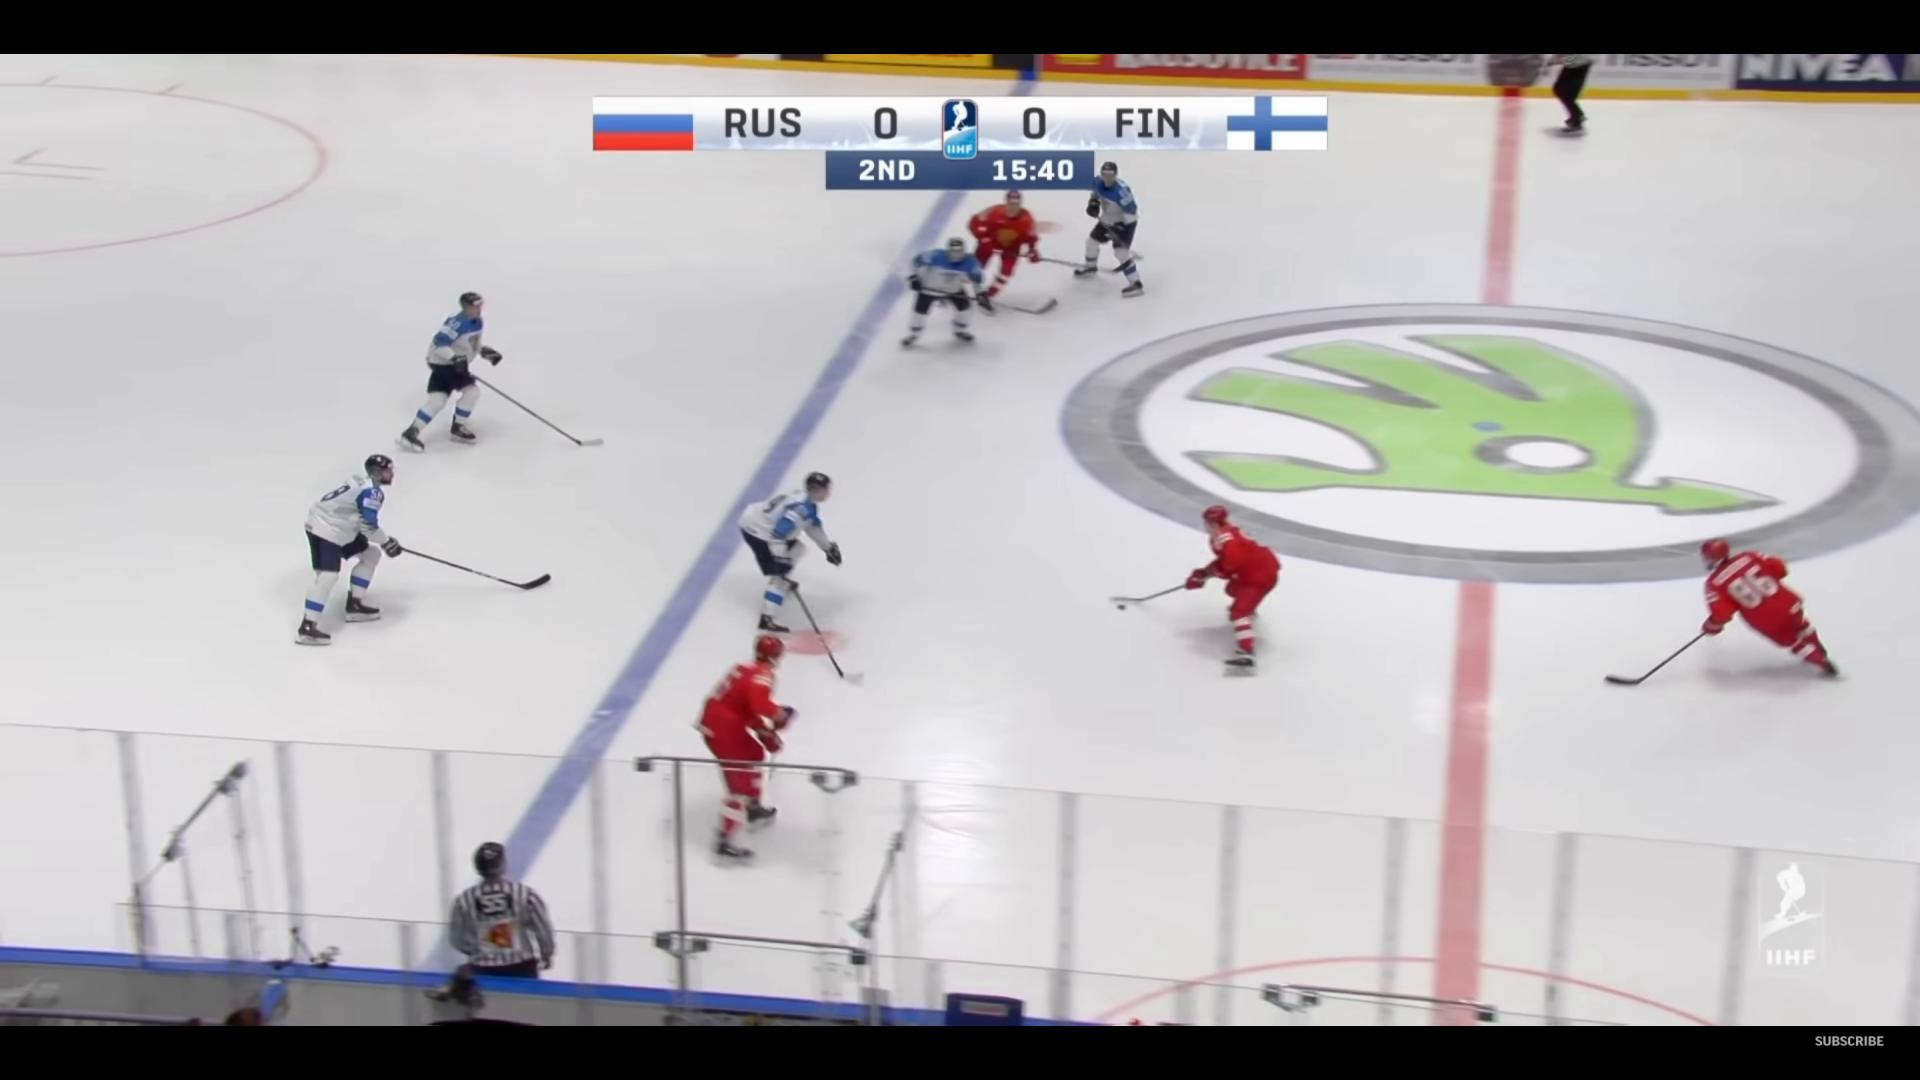puck: (1116, 603, 1125, 611)
